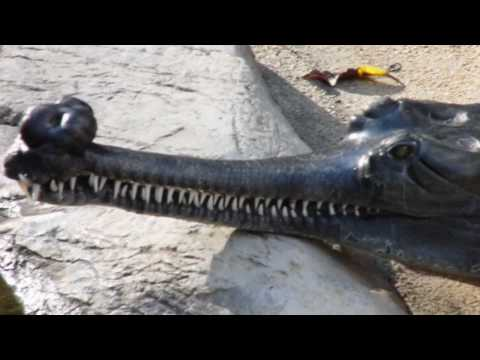Crocodile: (4, 91, 479, 292)
